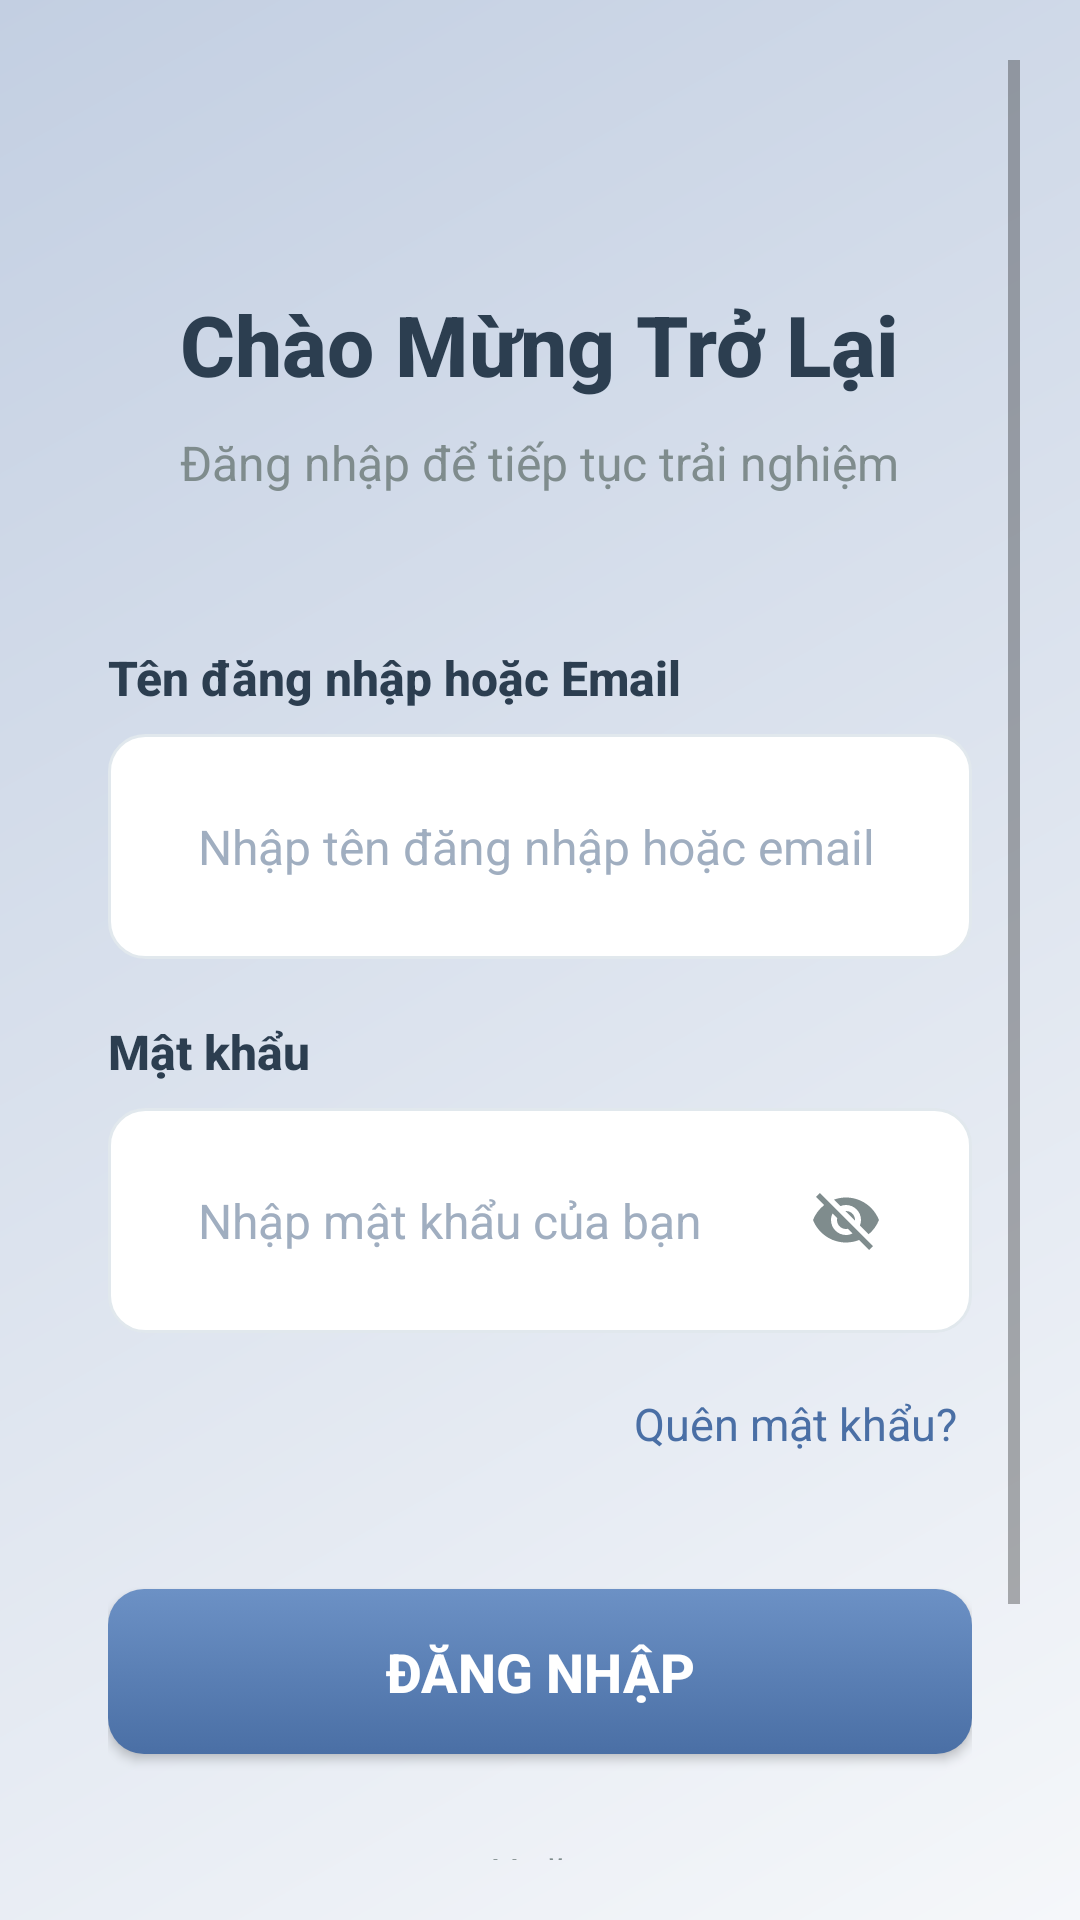

Where to tap for icons on this 1080px×1920px app screen, as (x=x, y=y):
Toggle password visibility: (x=846, y=1221)
